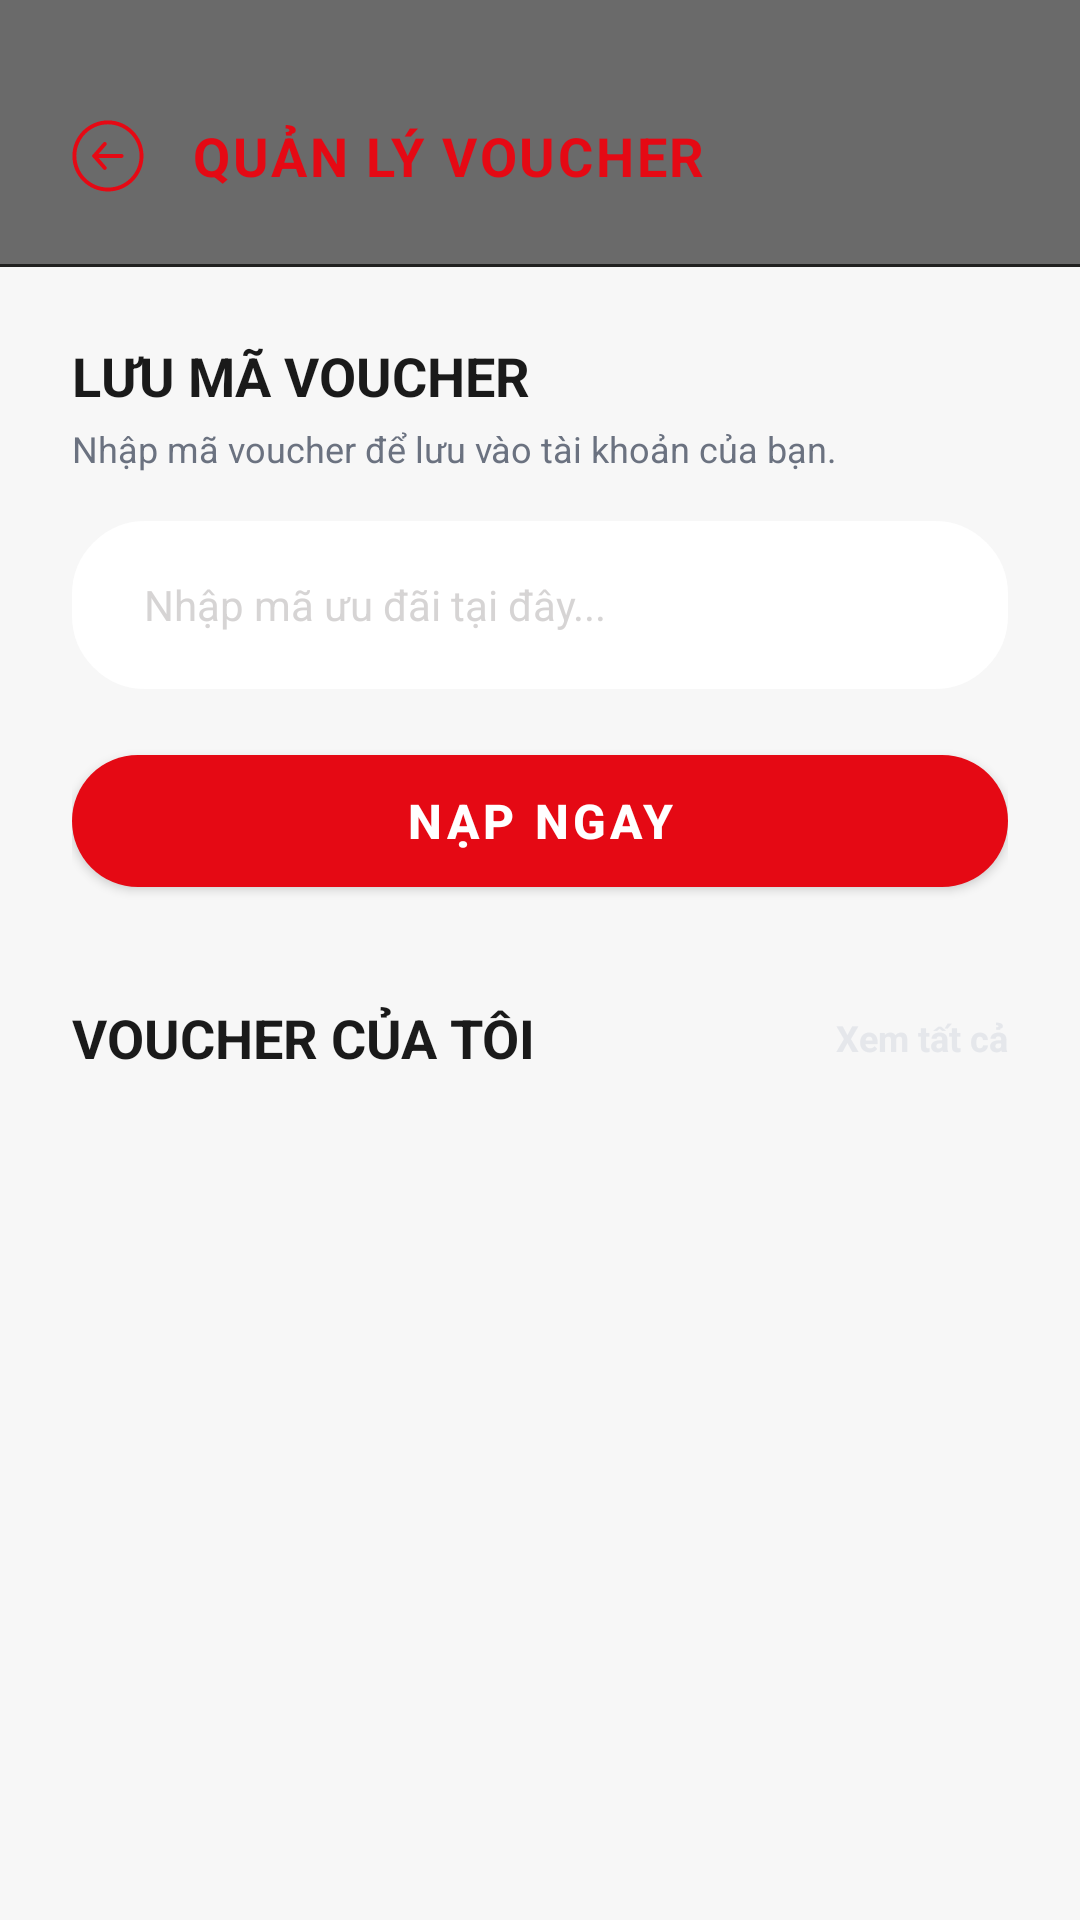

Icons on this 1080*1920 Android screen, each with its box as (x1, y1, x2, y2):
back: (72, 120, 144, 192)
